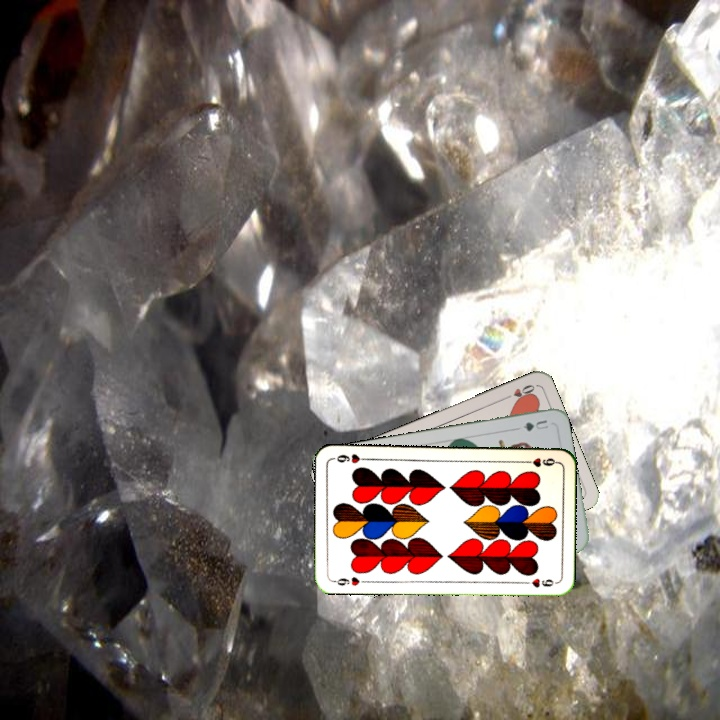GU: (513, 416, 551, 434)
H9: (519, 454, 559, 469), (329, 573, 362, 588)
HO: (499, 380, 538, 403)
